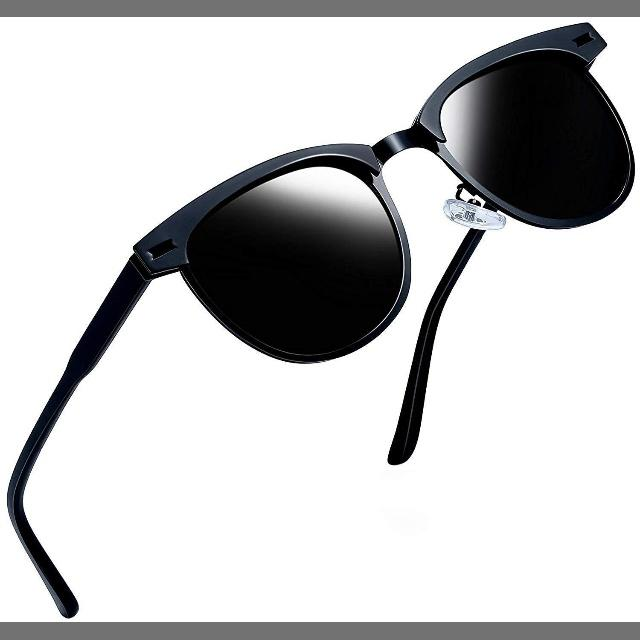Sunglasses: (12, 17, 640, 623)
